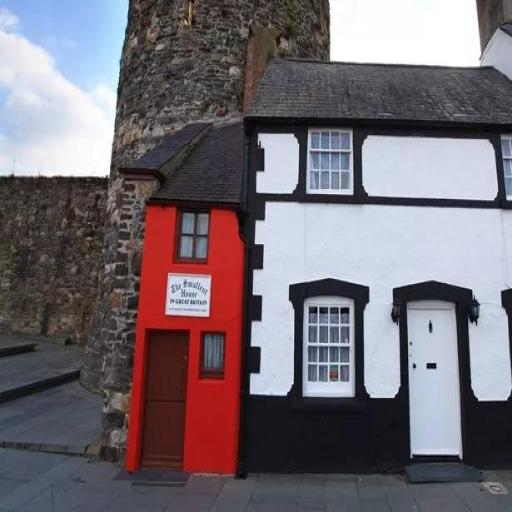door: (408, 302, 478, 504)
